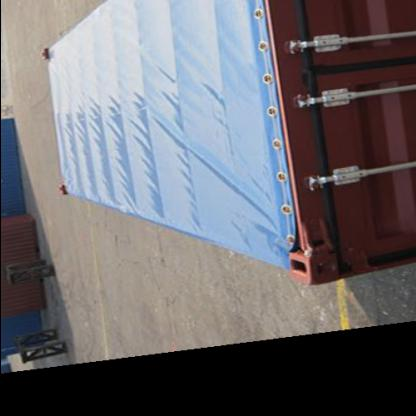Damage: (293, 214, 346, 284), (286, 60, 328, 90)
